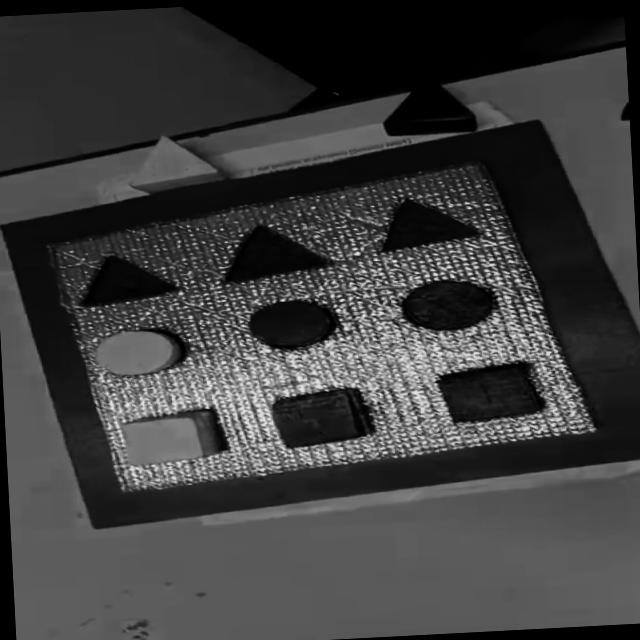bcircle: (400, 277, 495, 332)
bcube: (434, 361, 542, 424)
mttriangle: (220, 220, 332, 282), (374, 192, 480, 252), (76, 250, 180, 308)
rcircle: (245, 298, 332, 350)
rcube: (269, 386, 369, 448)
rtriangle: (378, 74, 480, 138)
wb: (43, 159, 594, 496)
ycircle: (92, 326, 182, 378)
ycube: (116, 409, 223, 466)
ytriangle: (124, 131, 229, 197)
